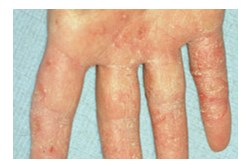Diseased: (46, 20, 220, 141)
